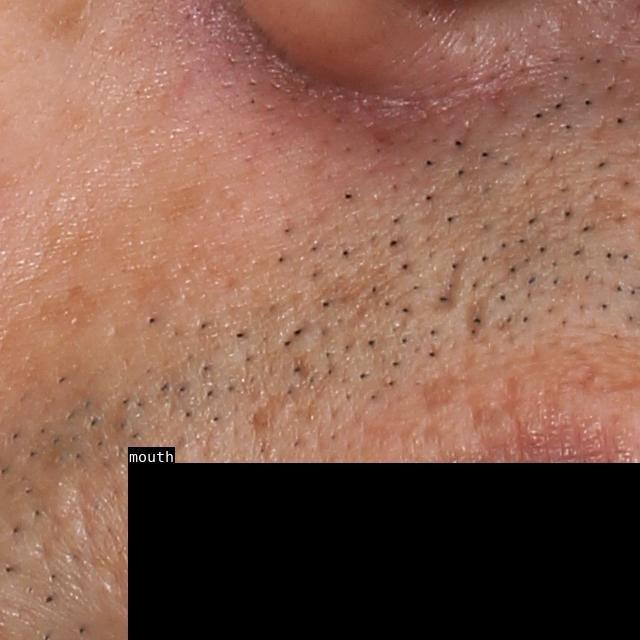atrophic_scar: (431, 246, 470, 316), (464, 282, 496, 345), (247, 389, 286, 436), (419, 368, 456, 417)
